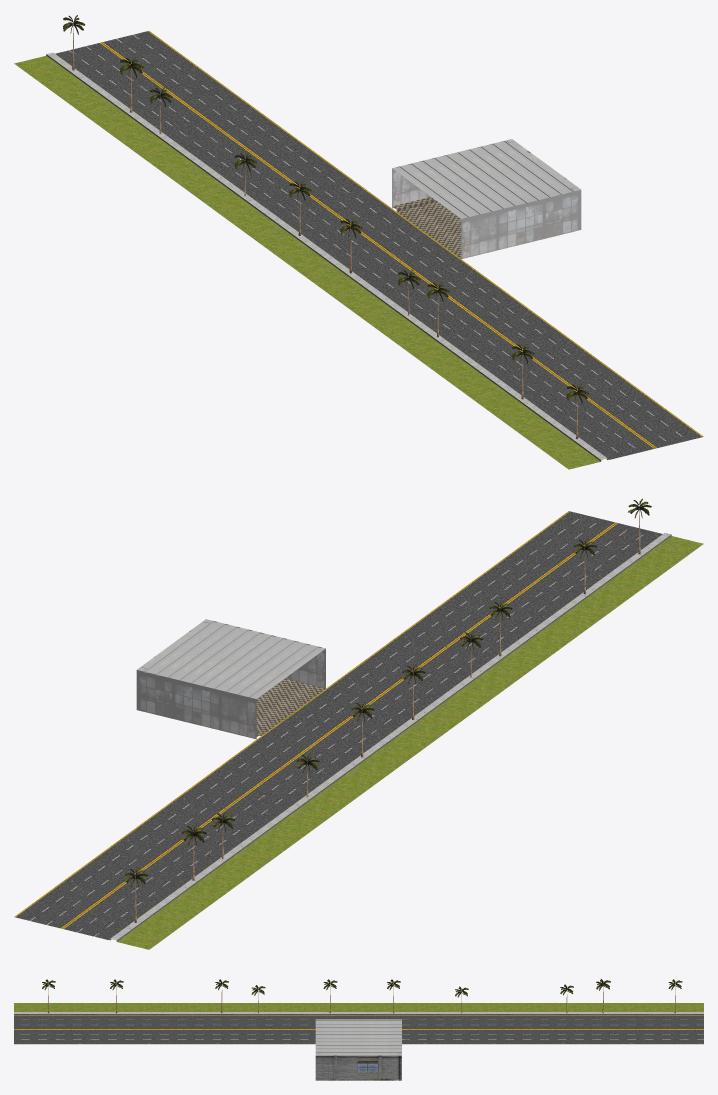
Rendered from room.FBX.
3 renders of one model, top to bottom at view 1: azimuth 30°, elevation 25°; view 2: azimuth 150°, elevation 25°; view 3: azimuth 270°, elevation 25°, orthographic. The views are drawn at different scales.
Parts seen in each view (by area): view 1: floor; view 2: floor; view 3: floor.
Boxes of the visible parts, left/top/right/bottom form: floor: left=14, top=15, right=703, bottom=469; floor: left=14, top=498, right=703, bottom=949; floor: left=14, top=979, right=703, bottom=1080.
Size of the model in its own units: 54.64 by 13.49 by 200.
